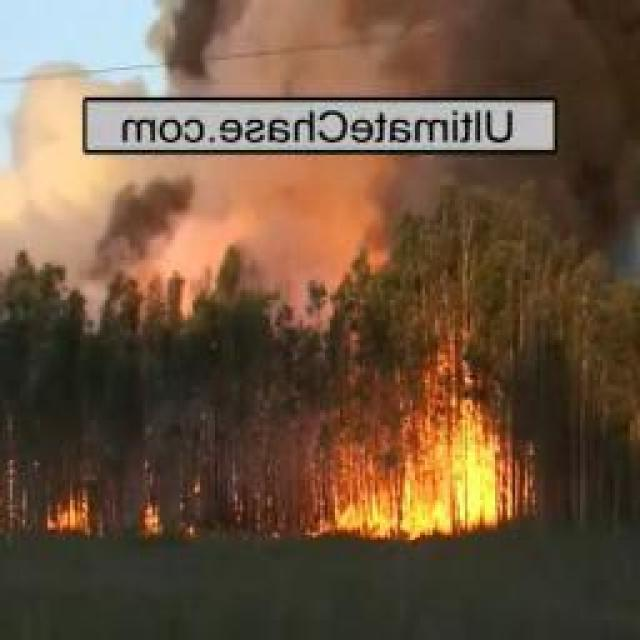Fire: (325, 407, 505, 537), (47, 482, 97, 531), (137, 502, 160, 542)
